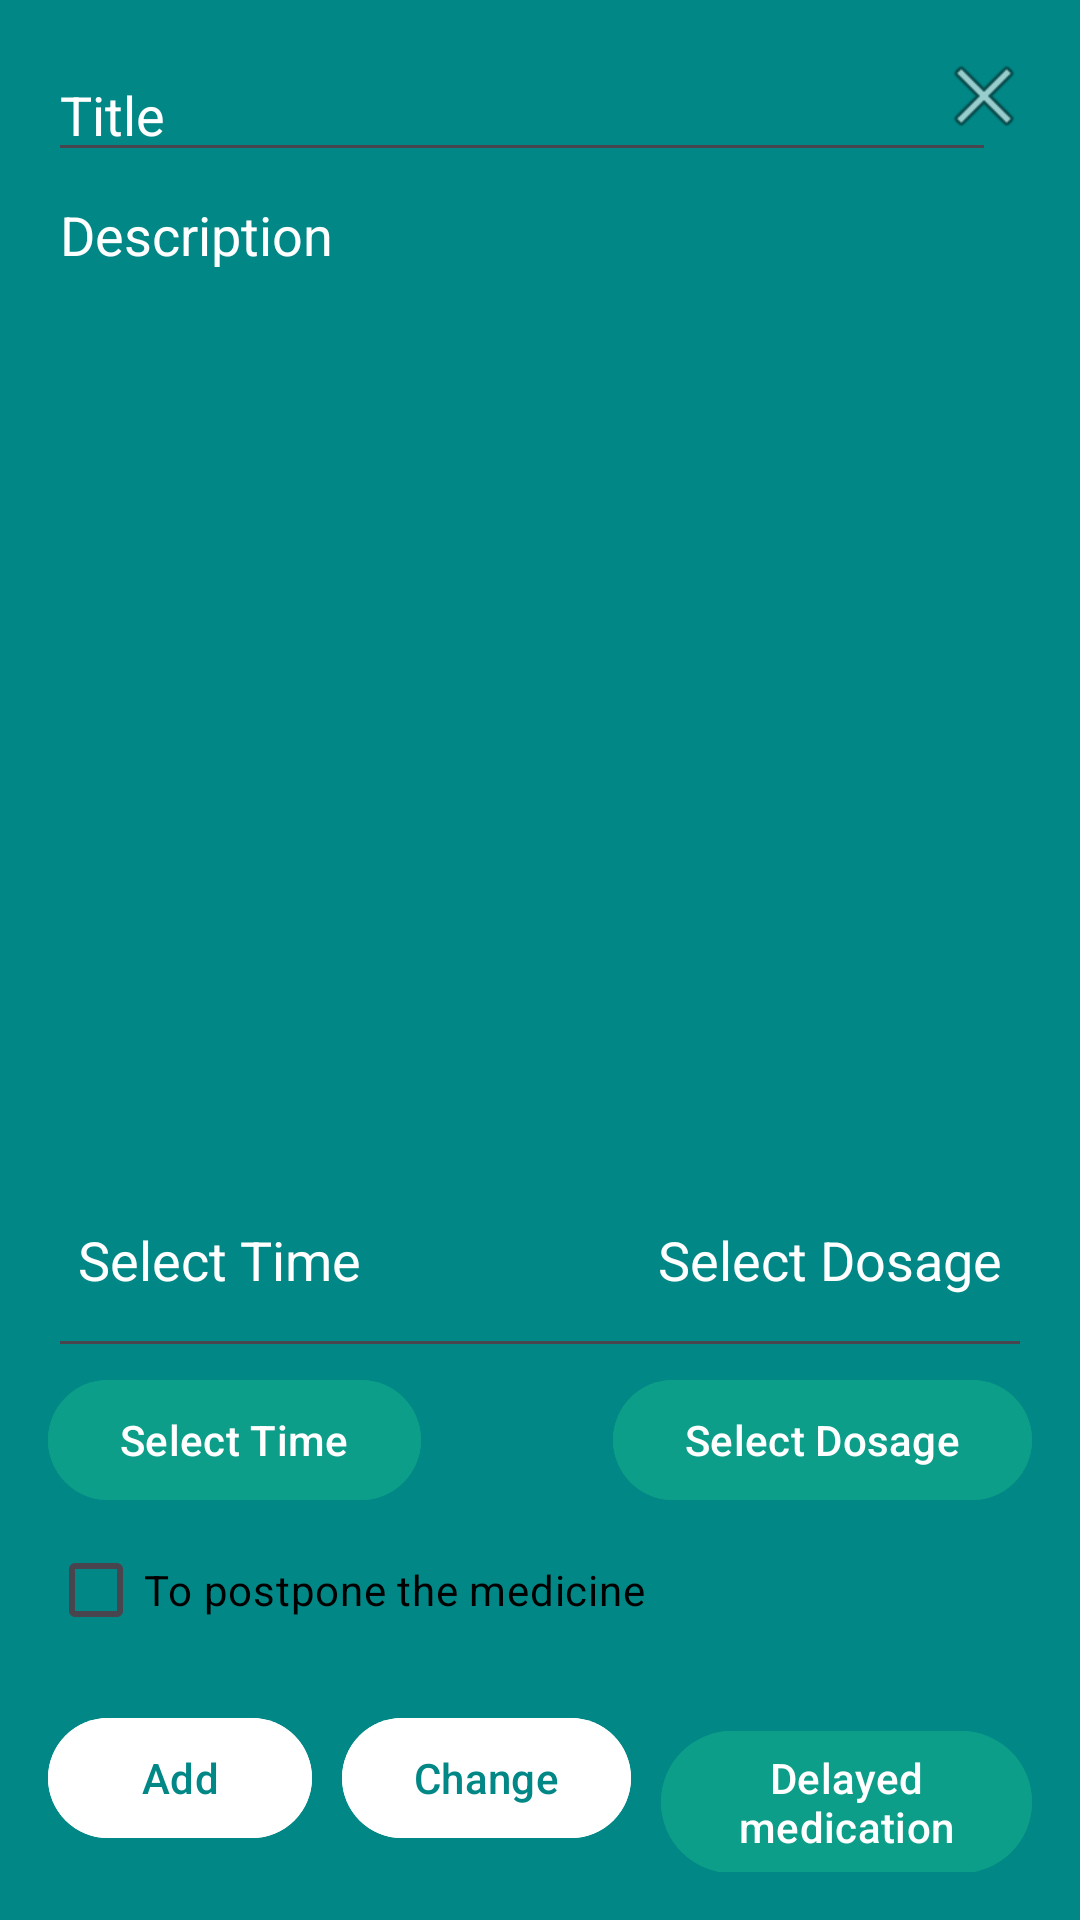

Icons on this 1080px×1920px Android screen, each with the point to tap as (x,y):
Close: (984,96)
